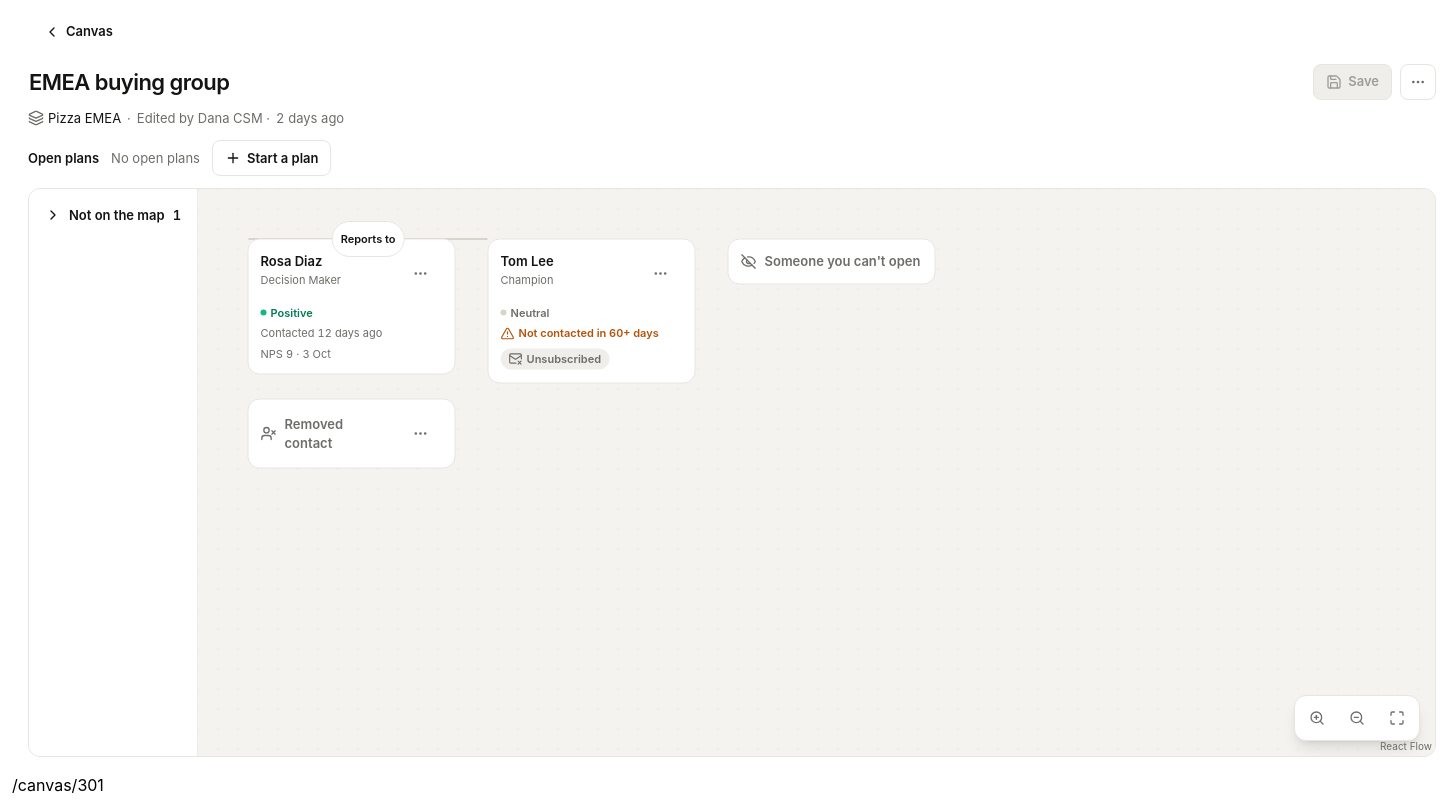
Scenario: MapEditor: every edit without dragging (spec §2.2) › relabels and removes a line from the person panel
Click the button named "Actions for Tom Lee" at (660,274), box [638,252,682,296]
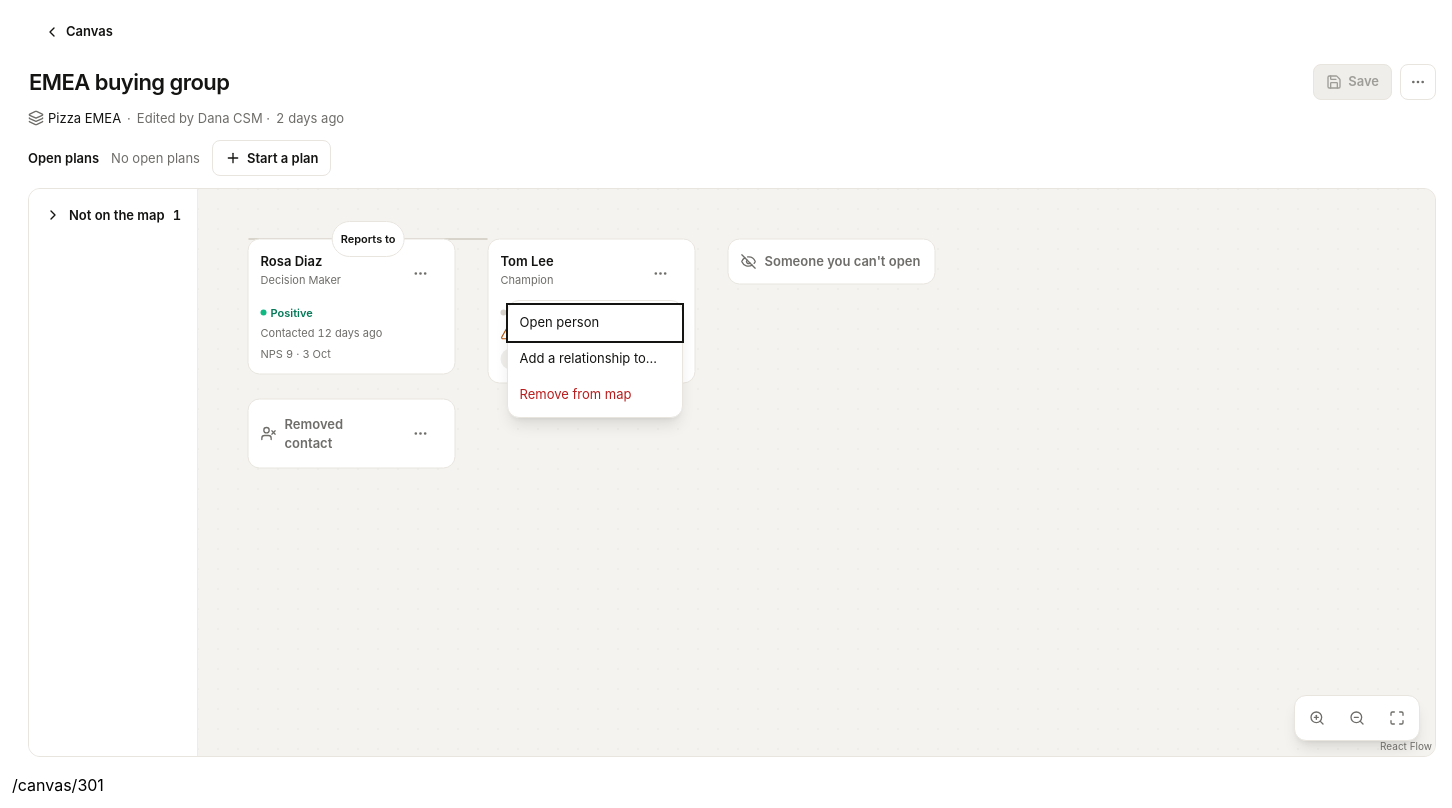
Click the menu item "Open person" at (594,322), box [508,304,682,340]
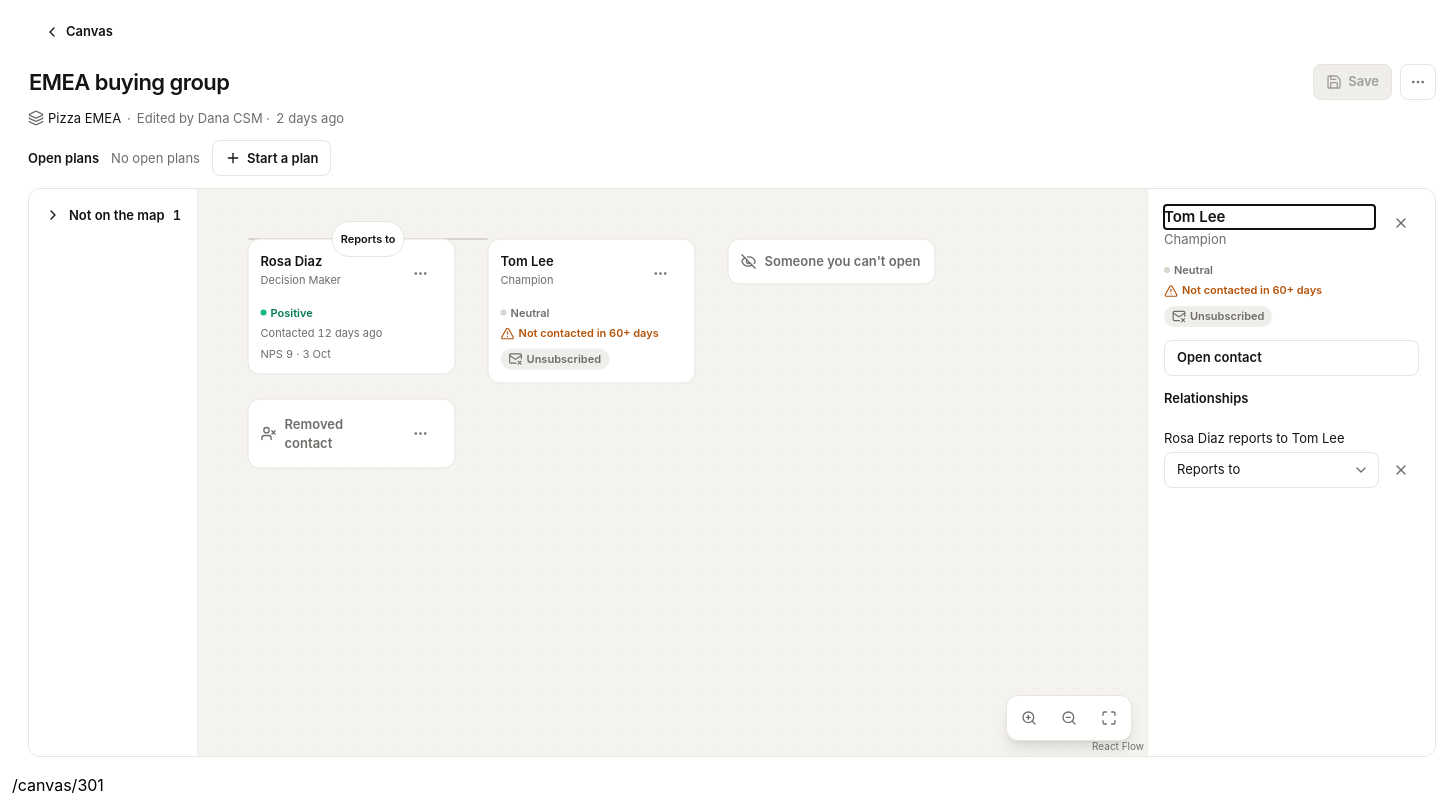
Select "Blocks" in the dropdown named "Relationship: Rosa Diaz reports to Tom Lee" at (1272,470), box [1164,452,1379,488]
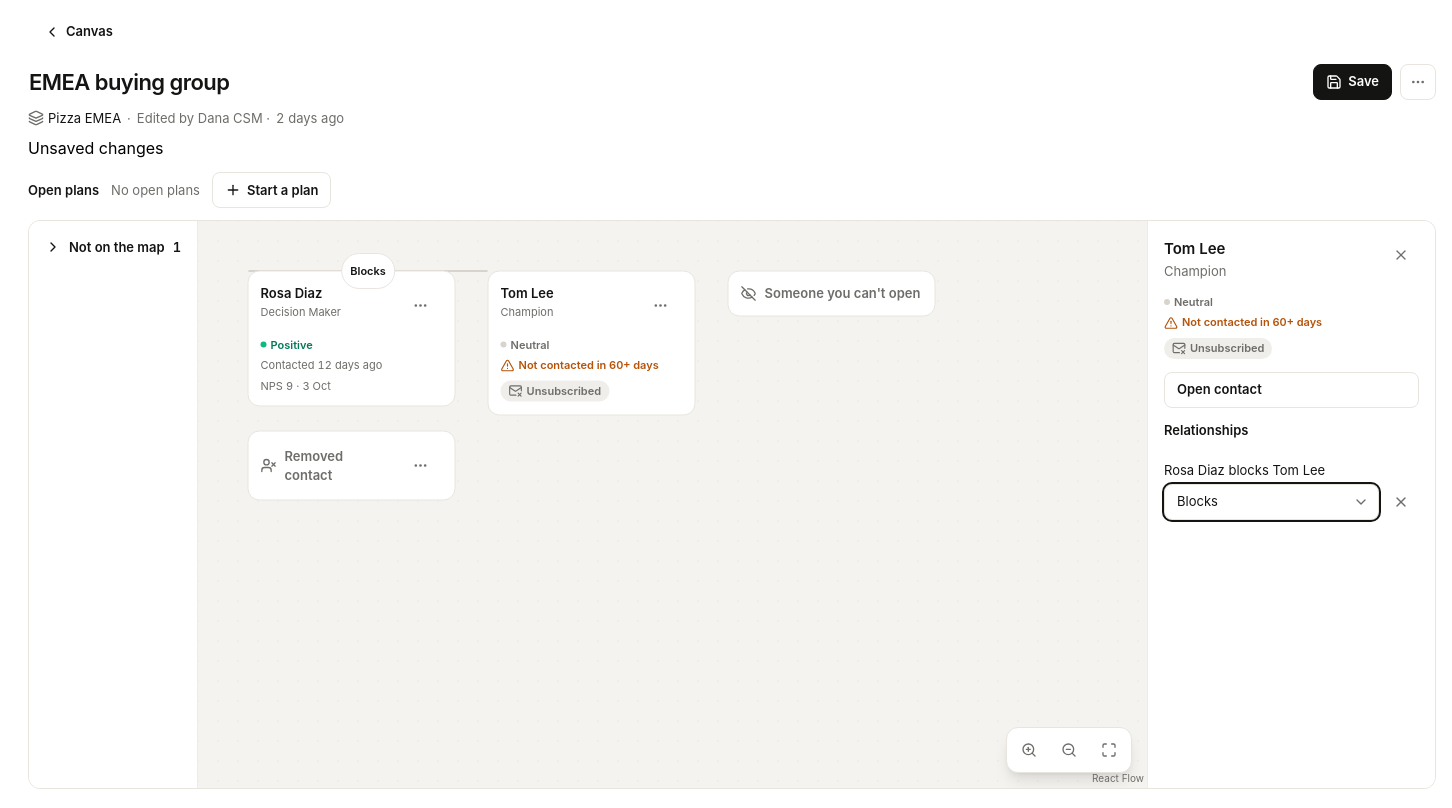
Expected: the list named "Relationships" reads "Rosa Diaz blocks Tom Lee", [1164,462,1325,478]
Click the button named "Remove the line: Rosa Diaz blocks Tom Lee" at (1401,502), box [1383,484,1419,520]
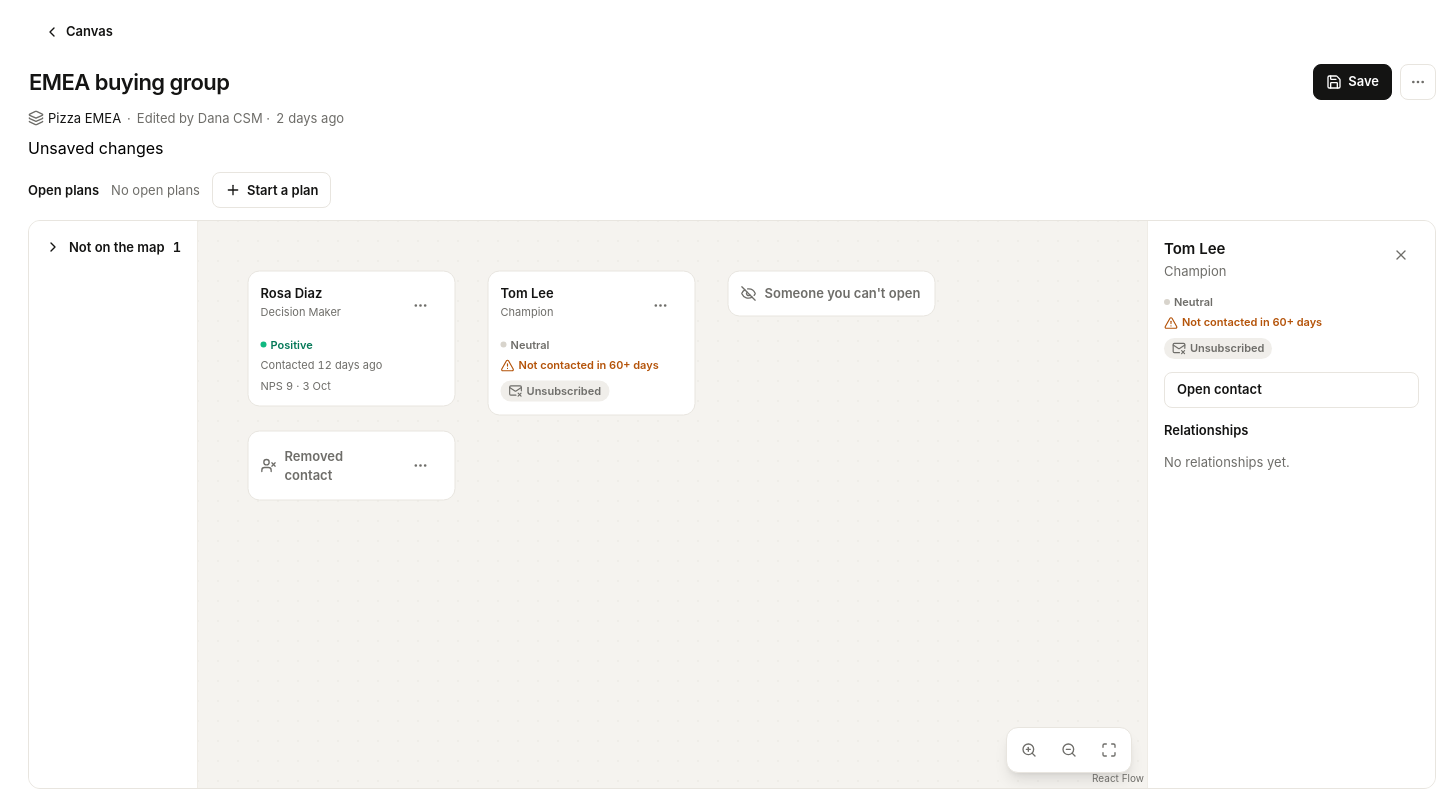
Expected: the text "No relationships yet." is shown, [1164,454,1290,470]
